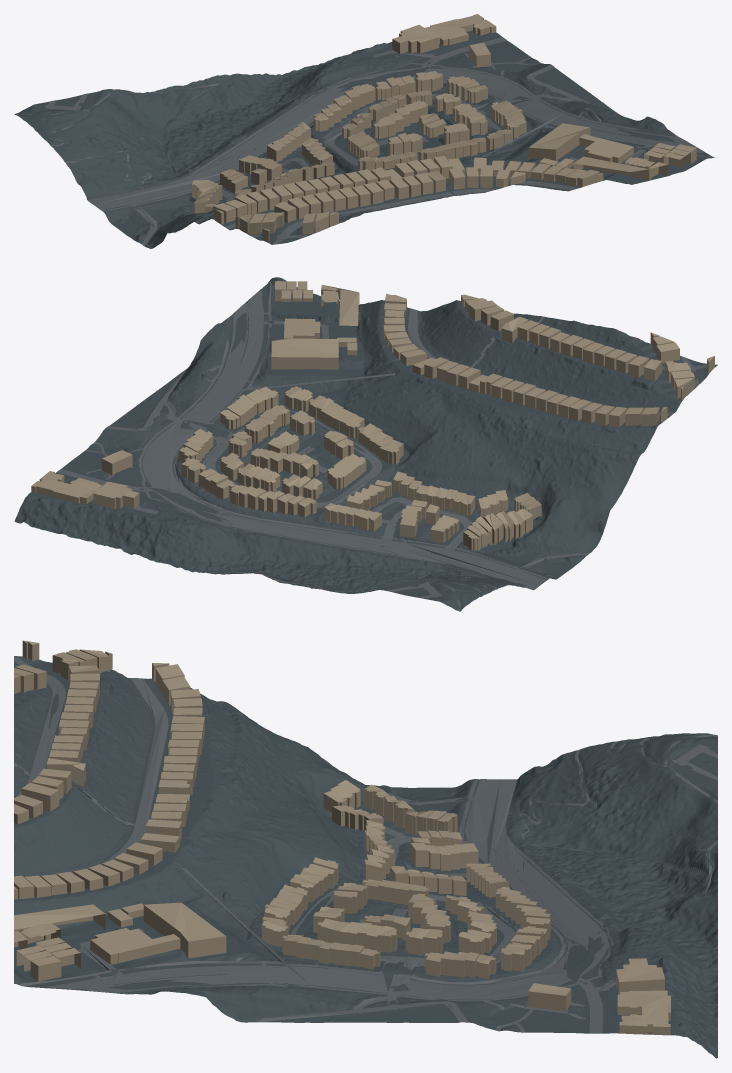
File: epsg26910-1426-10881.lod0.glb
3 renders of one model, top to bottom at view 1: azimuth 30°, elevation 25°; view 2: azimuth 150°, elevation 25°; view 3: azimuth 270°, elevation 25°, orthographic. The views are drawn at different scales.
Parts seen in each view (by area): view 1: epsg26910-1426-10881-lod0; view 2: epsg26910-1426-10881-lod0; view 3: epsg26910-1426-10881-lod0.
Part boxes in pixels (bbox=[...]): epsg26910-1426-10881-lod0: bbox=[14, 14, 716, 248]; epsg26910-1426-10881-lod0: bbox=[14, 277, 717, 611]; epsg26910-1426-10881-lod0: bbox=[14, 640, 717, 1058].
Size of the model in its own units: 384 by 92.9 by 384.
